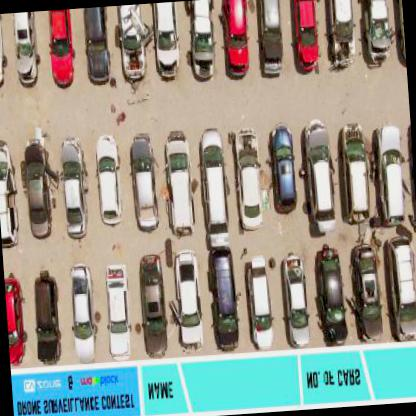car: (304, 109, 338, 224), (232, 117, 267, 225), (349, 236, 384, 340), (312, 236, 348, 336), (206, 239, 239, 340), (165, 121, 195, 228), (138, 242, 168, 348), (176, 239, 206, 344), (60, 130, 91, 228), (129, 124, 159, 222), (280, 242, 310, 338), (94, 124, 124, 218), (69, 256, 98, 352), (22, 138, 52, 230), (270, 113, 299, 206), (30, 265, 60, 354), (104, 255, 132, 348), (248, 247, 275, 340), (0, 127, 22, 241), (184, 0, 218, 72), (391, 227, 415, 328), (218, 0, 252, 70), (358, 0, 397, 60), (80, 8, 113, 76), (256, 0, 288, 70), (324, 0, 360, 62), (6, 264, 30, 355), (151, 2, 182, 72), (47, 10, 78, 80), (291, 0, 324, 65), (14, 13, 41, 76), (0, 14, 10, 80)
